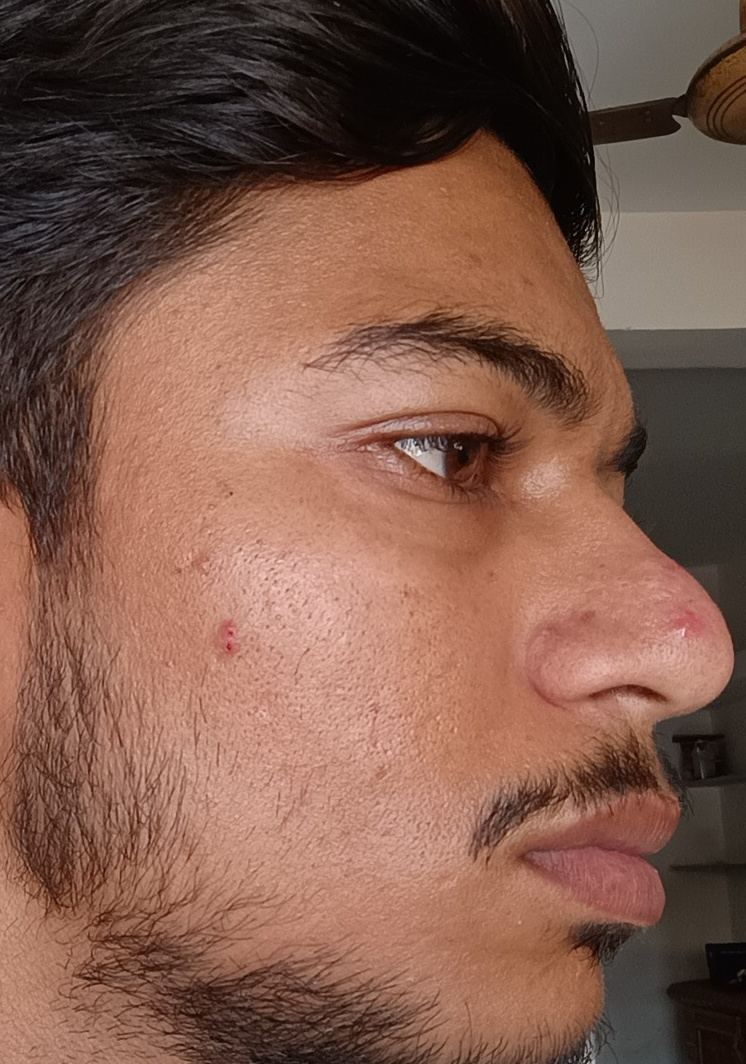papule: (210, 603, 257, 670), (657, 598, 703, 656)
